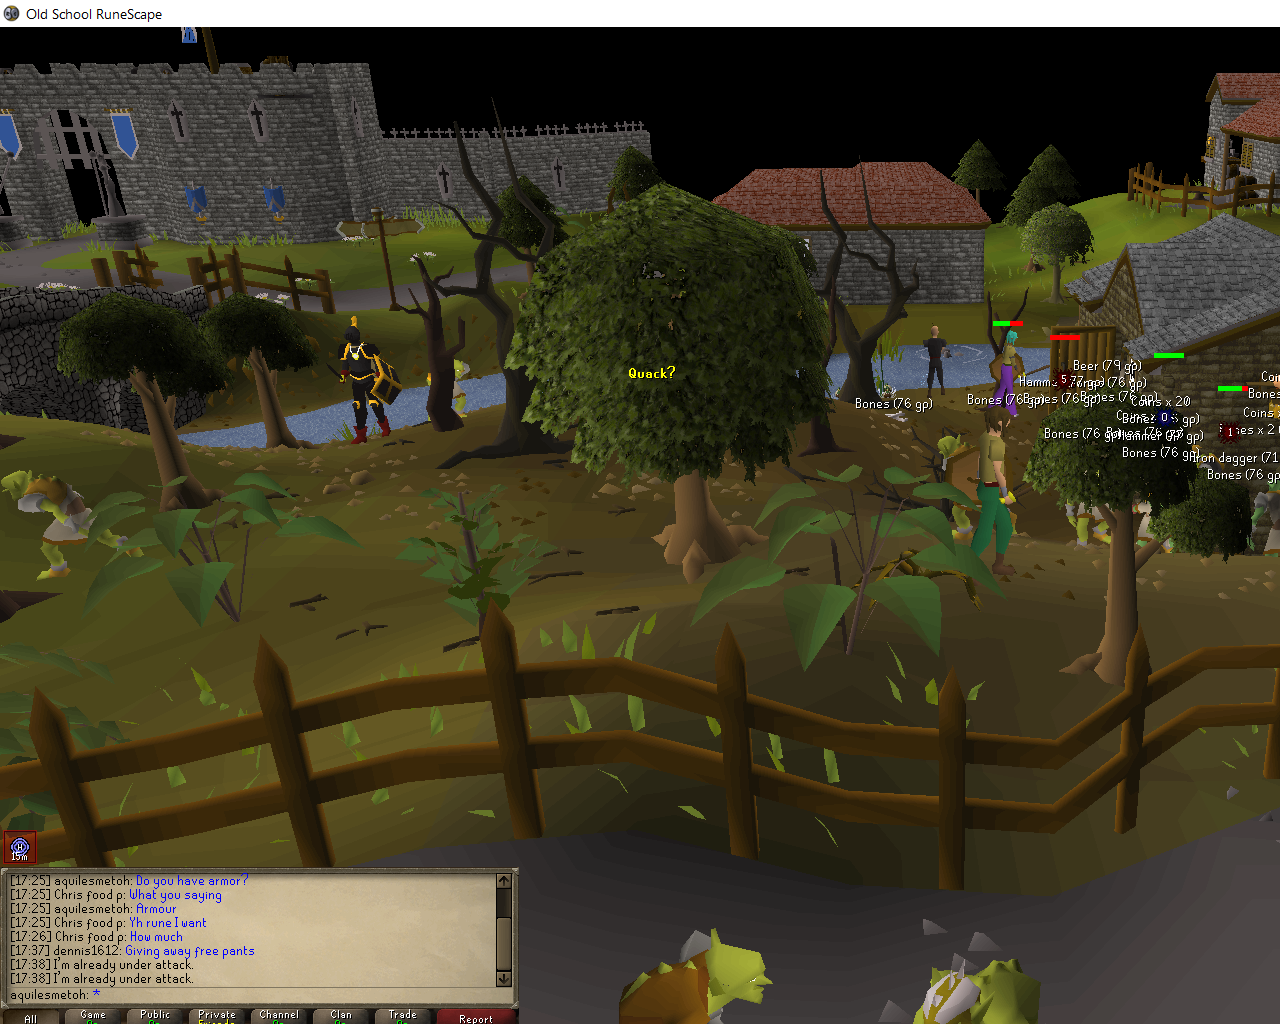Goblin: (1, 466, 147, 579), (618, 928, 772, 1024), (909, 952, 1047, 1024), (927, 432, 1015, 535), (1054, 447, 1132, 545), (421, 356, 481, 424)
